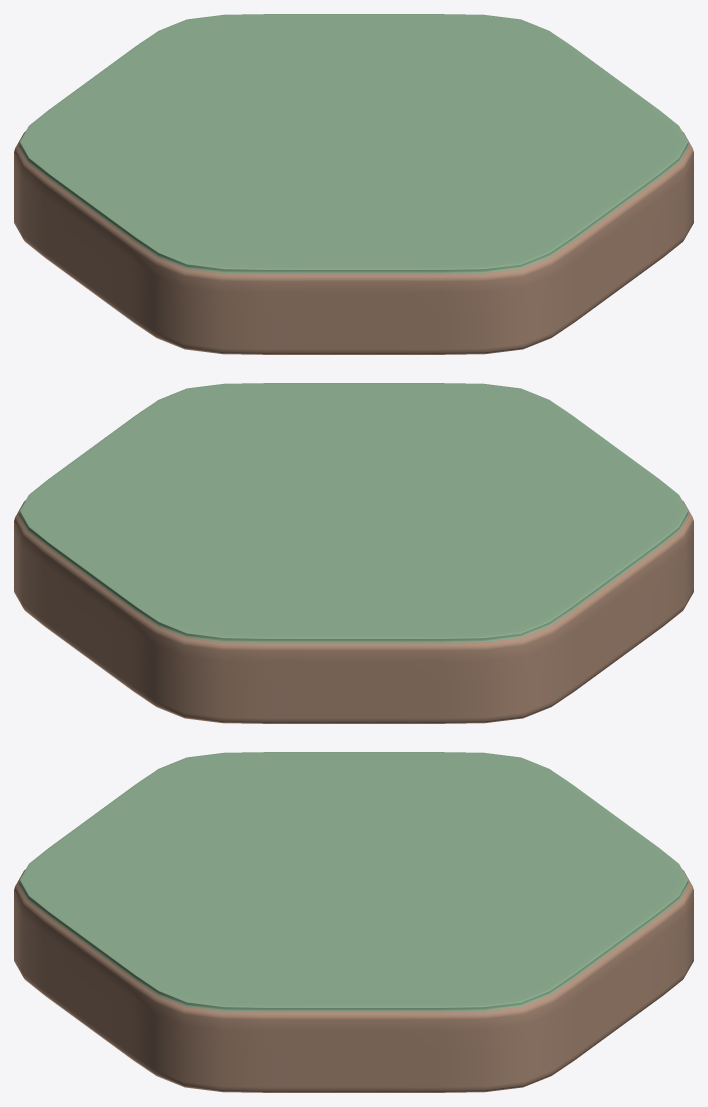
The model's file is tile5.glb.
3 views of the same model, one above another, from view 1: azimuth 30°, elevation 25°; view 2: azimuth 150°, elevation 25°; view 3: azimuth 270°, elevation 25° (orthographic).
Visible parts, largest first — view 1: Tile; view 2: Tile; view 3: Tile.
Part boxes in pixels (x1=…): Tile: x1=14, y1=14, x2=693, y2=354; Tile: x1=14, y1=383, x2=693, y2=723; Tile: x1=14, y1=752, x2=693, y2=1092.
Size of the model in its own units: 27.55 by 4.33 by 30.48.
